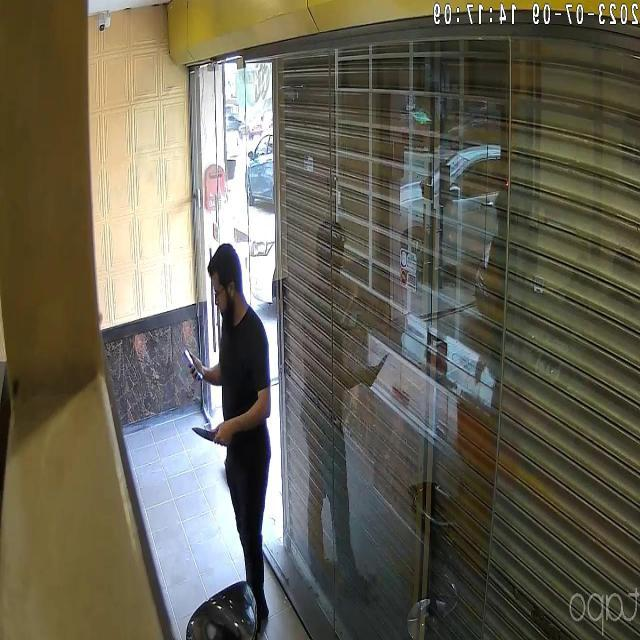Knife: (187, 421, 235, 454)
